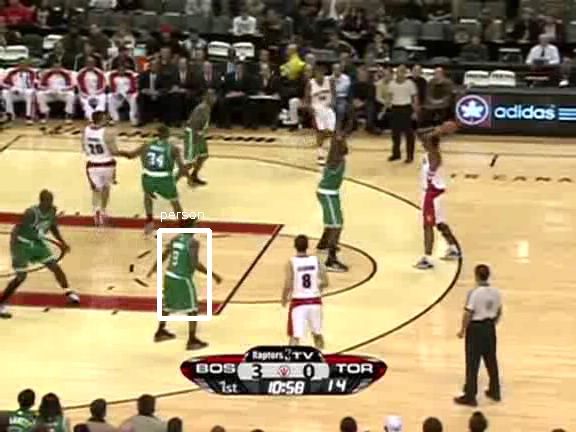person: (165, 234, 199, 315), (164, 234, 198, 315), (166, 234, 200, 315), (165, 233, 199, 314), (165, 235, 199, 316)
target_negative: (138, 160, 253, 321), (384, 13, 420, 293), (515, 299, 556, 358), (436, 275, 464, 359), (488, 148, 509, 231), (499, 242, 506, 408)
